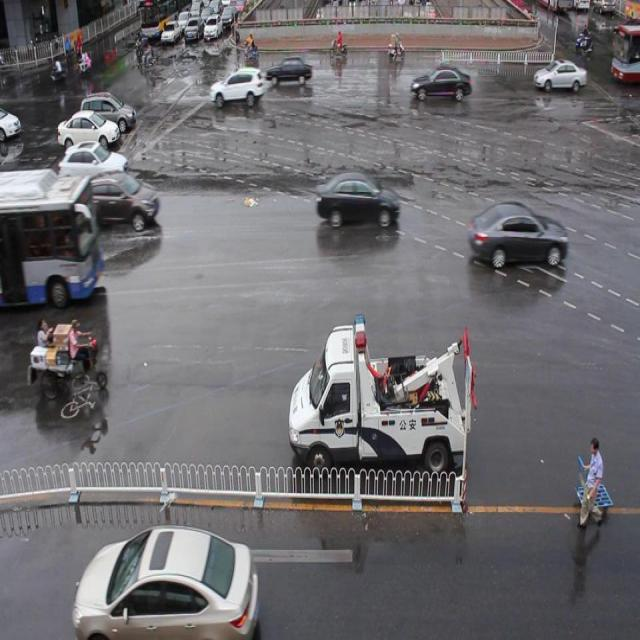car: (469, 200, 567, 268), (312, 169, 400, 230), (66, 171, 160, 228), (209, 66, 264, 109), (411, 65, 471, 104), (531, 56, 587, 97), (264, 54, 314, 89)
van: (1, 169, 102, 302)
